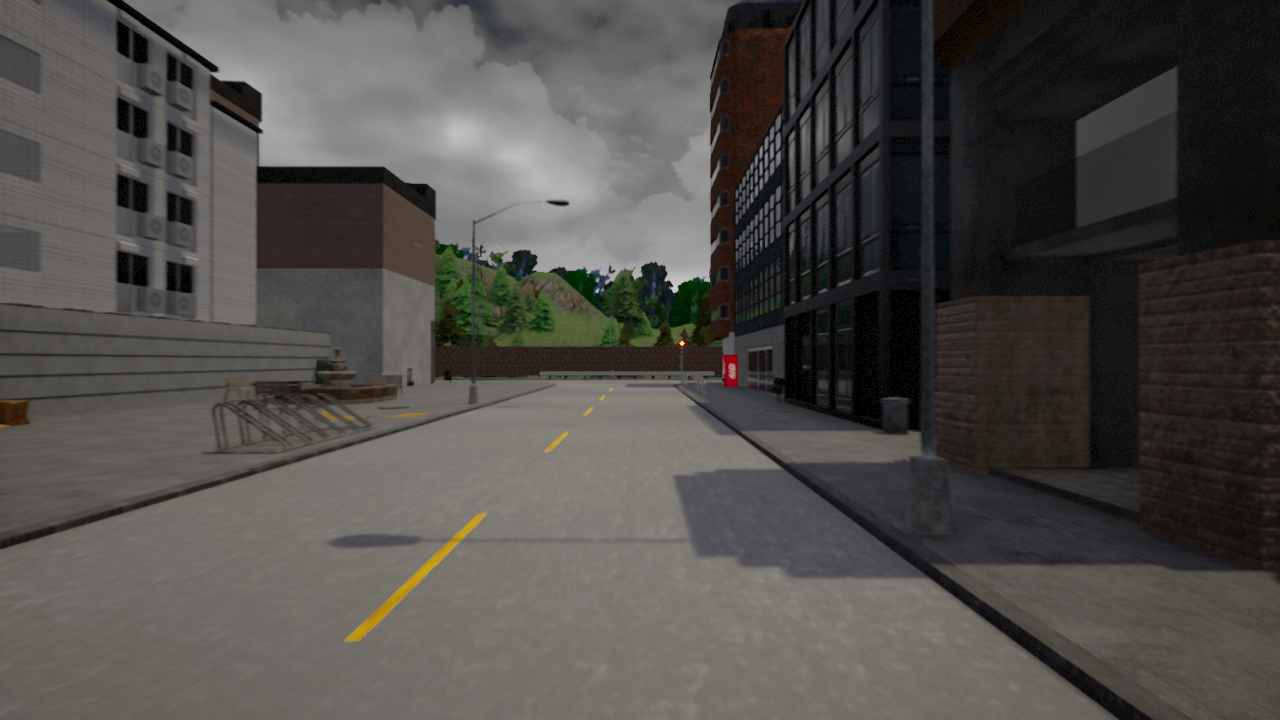red: (678, 340, 685, 355)
